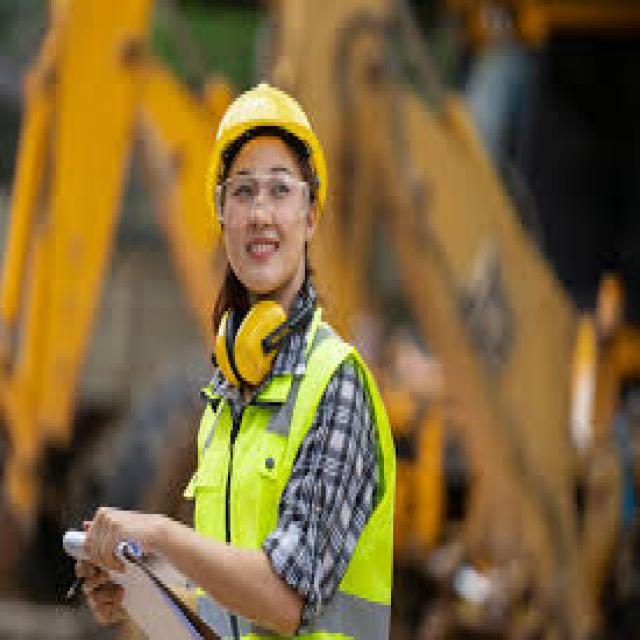Reflective-Jacket: (191, 304, 400, 630)
Safety-Helmet: (202, 73, 330, 196)
